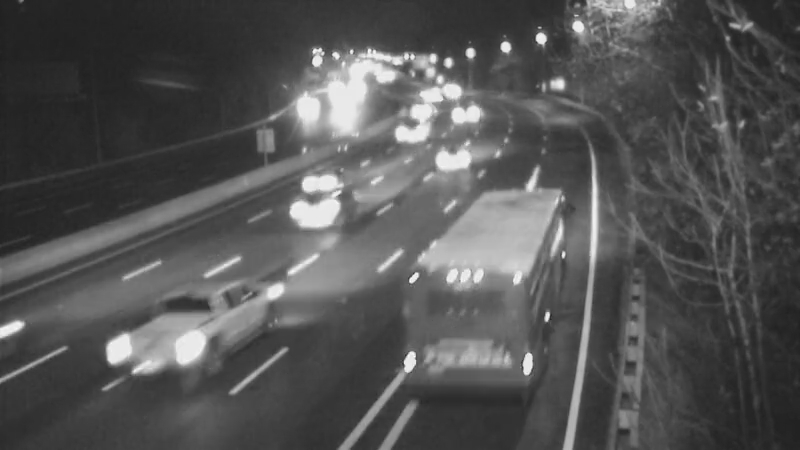vehicle: (124, 298, 234, 408), (408, 122, 488, 202), (293, 131, 373, 211), (288, 174, 368, 254), (424, 244, 504, 324), (392, 85, 442, 135), (439, 86, 489, 136), (392, 107, 442, 157), (282, 85, 332, 135)
